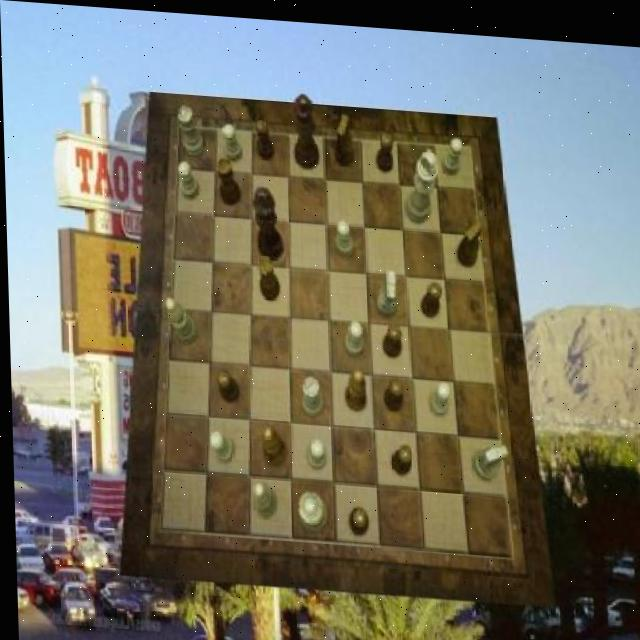bishop: (342, 362, 364, 406), (259, 422, 283, 461)
black-bishop: (252, 184, 281, 258)
black-king: (455, 213, 482, 262), (334, 109, 354, 162)
black-knight: (419, 275, 441, 312), (214, 367, 237, 401), (374, 126, 393, 167), (254, 116, 273, 157), (381, 372, 401, 407), (380, 319, 400, 354), (389, 439, 410, 471), (345, 503, 366, 531)
black-pawn: (291, 89, 317, 165)
black-queen: (216, 154, 240, 203), (255, 253, 279, 298)
black-rook: (164, 294, 196, 341), (249, 478, 273, 516)
white-bishop: (403, 142, 438, 219)
white-king: (469, 436, 506, 476), (374, 264, 396, 312)
white-knight: (441, 130, 462, 169), (176, 158, 197, 196), (207, 428, 230, 462), (223, 119, 242, 158), (427, 374, 447, 409), (341, 315, 361, 350), (334, 215, 351, 252), (304, 434, 323, 466)
white-pawn: (293, 487, 324, 529)
white-queen: (176, 104, 203, 155), (298, 372, 321, 414)
